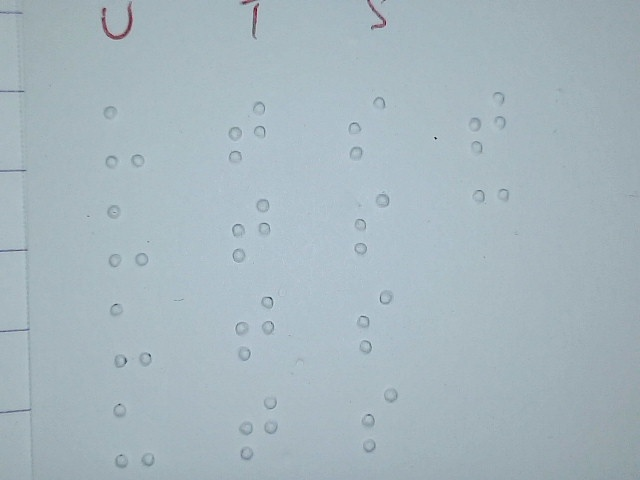S: (360, 384, 400, 454), (346, 95, 387, 161), (351, 190, 392, 256), (355, 288, 396, 354)
T: (231, 196, 272, 265), (234, 293, 275, 362), (238, 392, 279, 461), (226, 98, 267, 164)
U: (108, 300, 153, 368), (112, 401, 157, 469), (102, 103, 146, 171), (106, 201, 150, 269)
